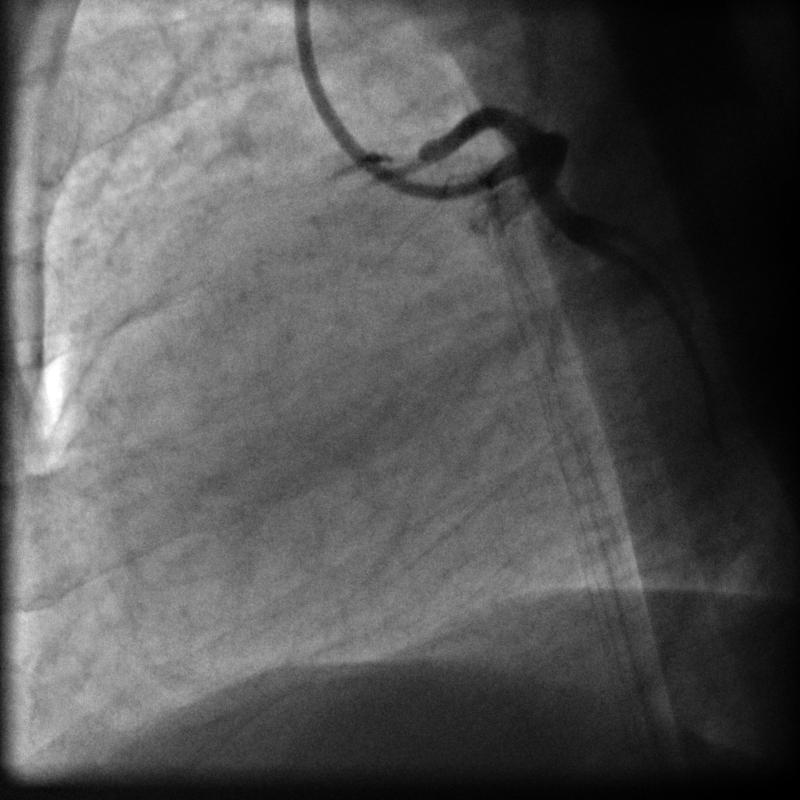Stenosis: (378, 149, 429, 190)
